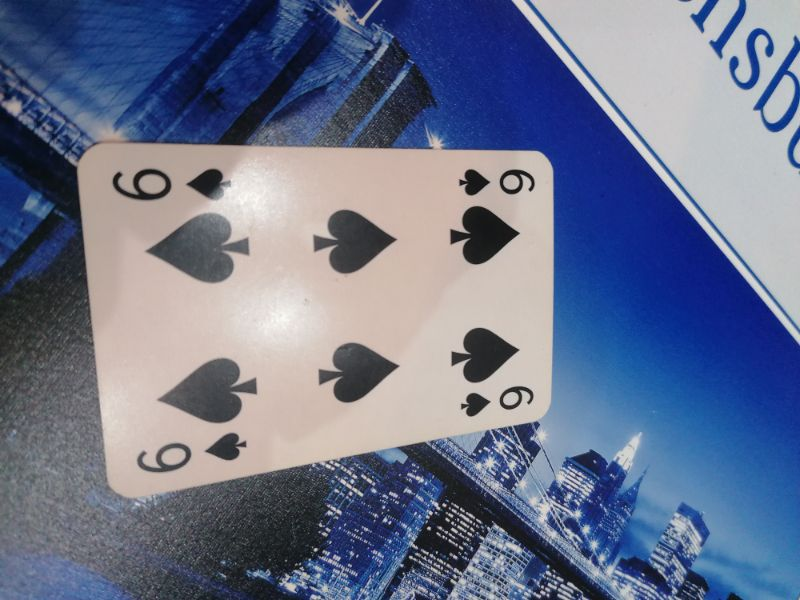6s: (110, 161, 243, 210), (130, 430, 250, 477), (451, 157, 540, 200), (454, 382, 538, 420)
